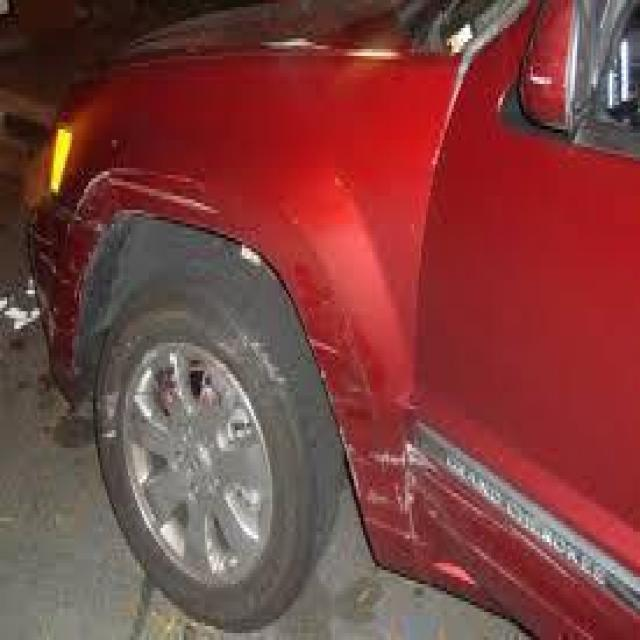damaged: (302, 325, 584, 595), (23, 168, 91, 396), (90, 168, 222, 231)
